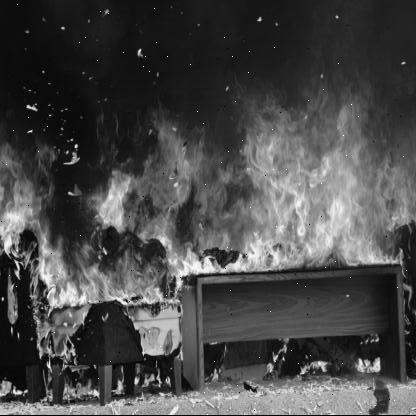fire: (0, 4, 416, 398)
smoke: (0, 0, 314, 128)
